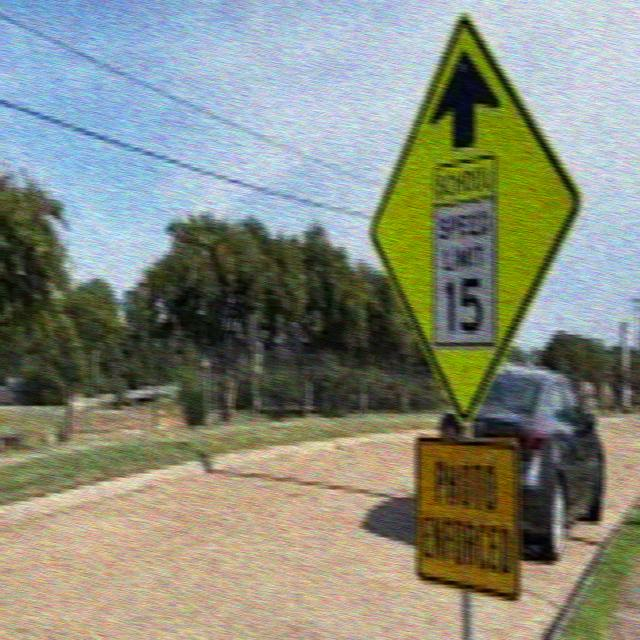speedLimit15: (429, 197, 496, 344)
